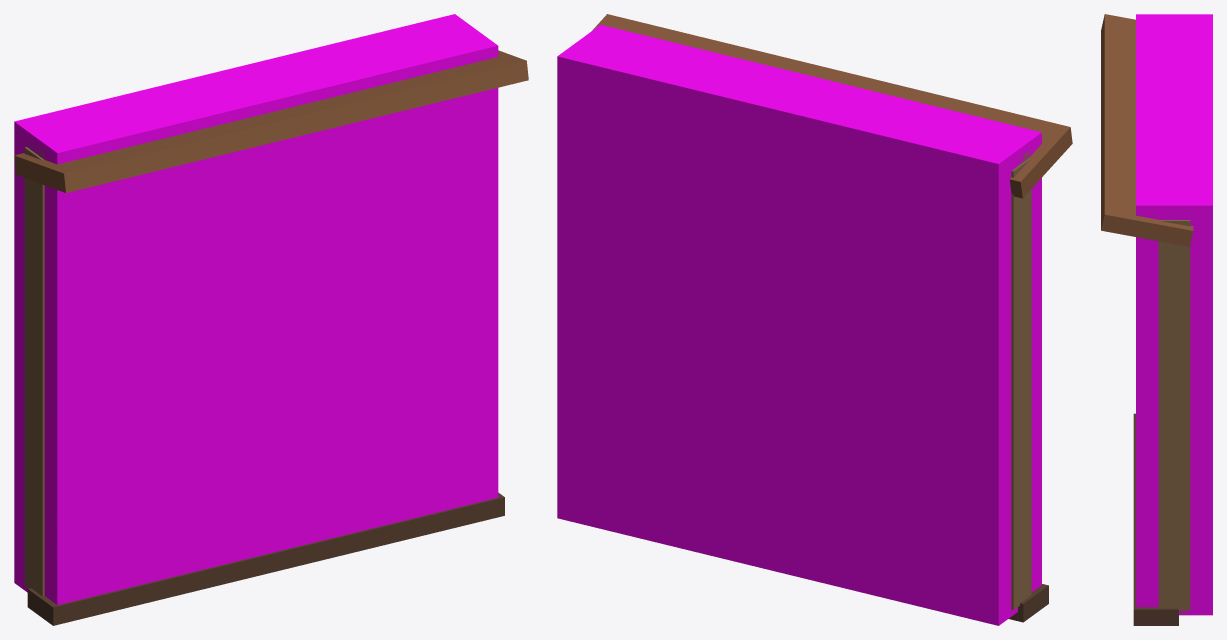
Rendered from window.glb.
3 views of the same model, side by side, from view 1: azimuth 30°, elevation 25°; view 2: azimuth 150°, elevation 25°; view 3: azimuth 270°, elevation 25° (orthographic). The views are drawn at different scales.
Visible parts, largest first — view 1: Col_main, M_b2, M_b3, M_b0; view 2: Col_main, M_b0, M_b2, M_b3; view 3: Col_main, M_b0, M_b2, M_b3.
Part boxes in pixels (x1,y1,x2,y2): Col_main: (14,14,498,605); M_b2: (14,50,528,192); M_b3: (27,492,504,625); M_b0: (24,140,44,596); Col_main: (557,25,1041,625); M_b0: (1011,151,1031,610); M_b2: (592,14,1072,198); M_b3: (1009,584,1048,622); Col_main: (1136,14,1212,615); M_b0: (1158,217,1190,614); M_b2: (1101,14,1193,246); M_b3: (1133,413,1178,625).
Bounding box in the file's own units: 2.1 × 2.04 × 0.494.
